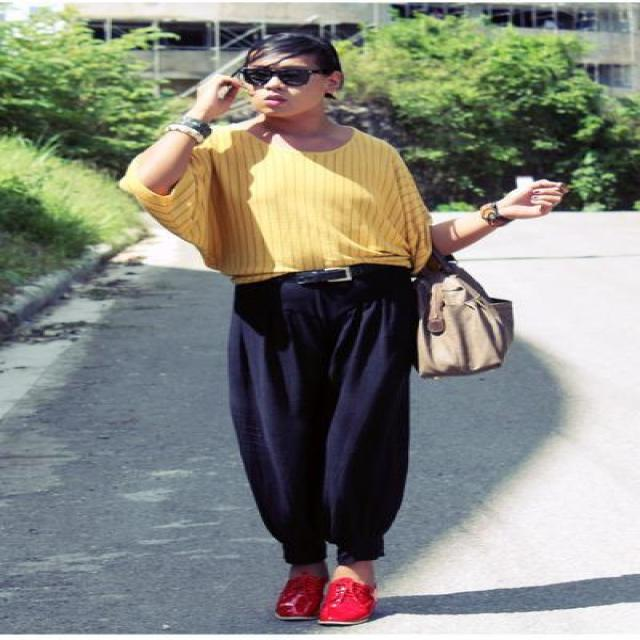bag: (418, 275, 526, 370)
jacket: (123, 122, 440, 284)
pants: (228, 262, 430, 566)
shoe: (276, 562, 374, 626)
sunglass: (232, 56, 299, 86)
